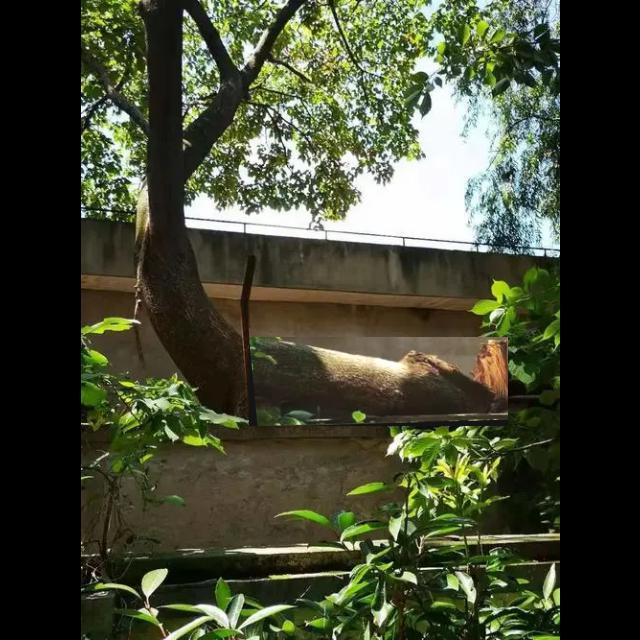fallen_tree: (249, 337, 509, 427)
